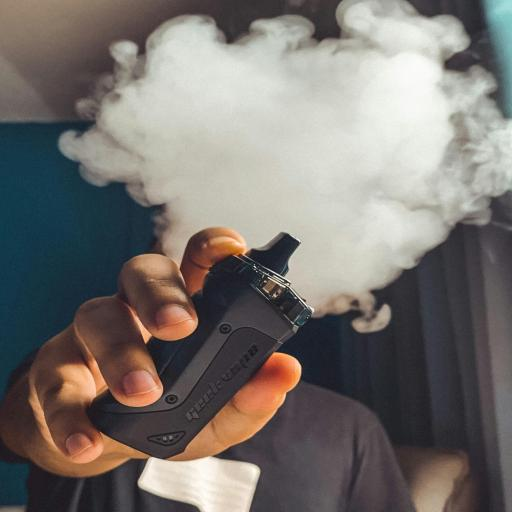smoke: (93, 0, 479, 295)
